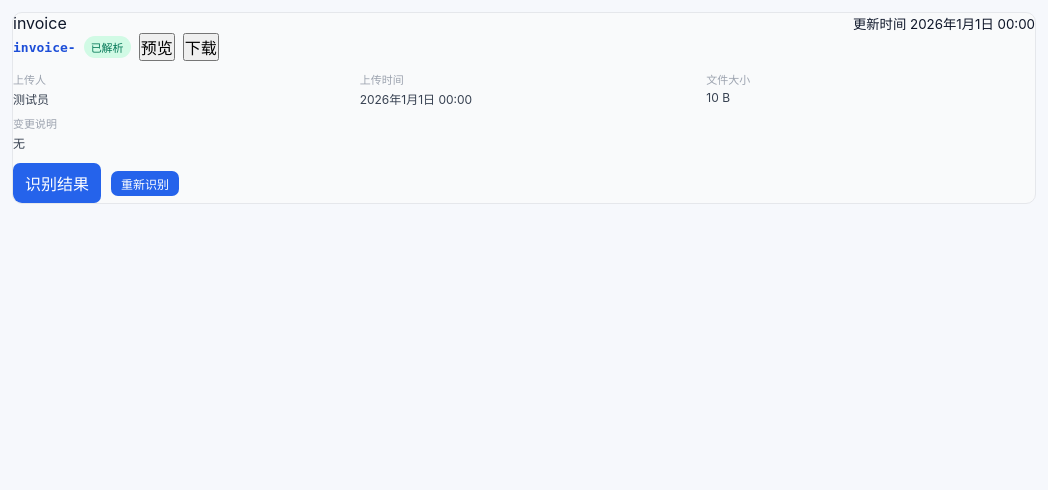
Test: 过程文件解析展示 › 展开 invoice 识别结果并提示 missing_fields
The width and height of the screenshot is (1048, 490).
Expected: the text "已解析" is shown, left=84, top=36, right=131, bottom=58
Click the button "识别结果" at (57, 183), box left=13, top=163, right=101, bottom=203
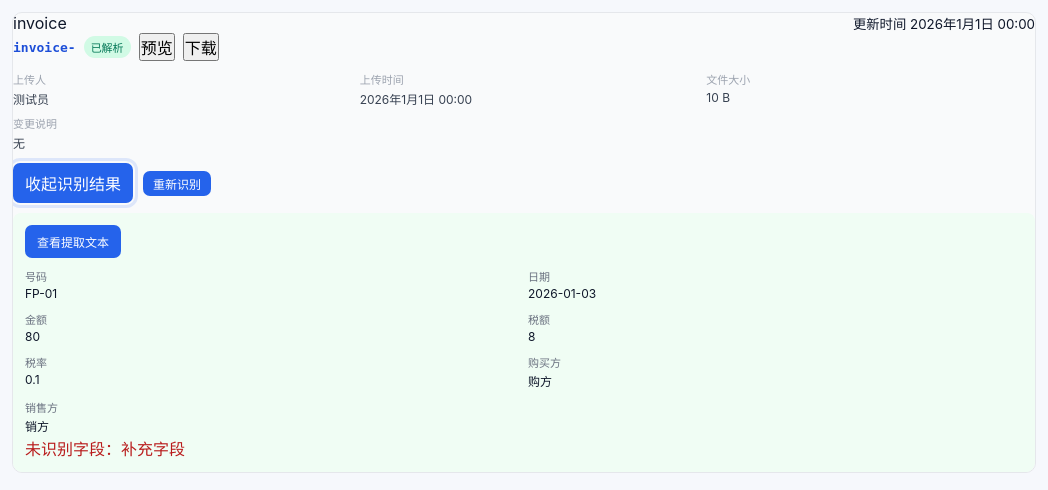
Result: the text "未识别字段：补充字段" is shown at left=25, top=439, right=185, bottom=459
Result: the text "号码" is shown at left=25, top=270, right=47, bottom=284
Result: the text "日期" is shown at left=528, top=270, right=550, bottom=284
